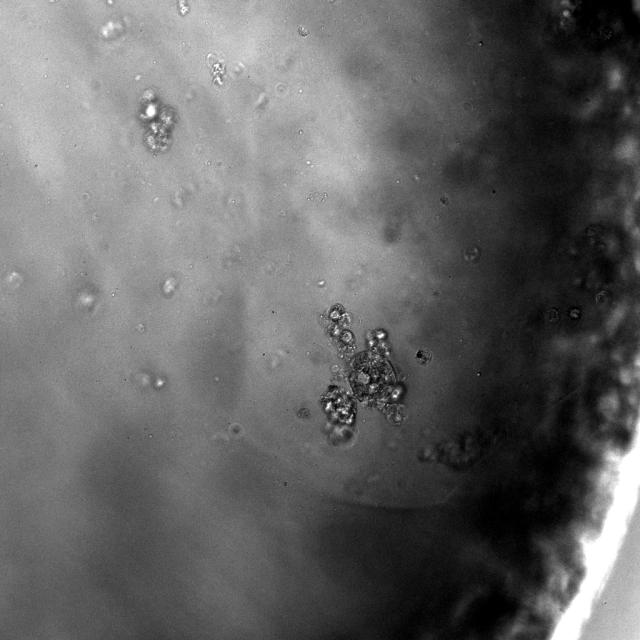organoid: (319, 302, 406, 444), (418, 431, 487, 470), (137, 88, 176, 152), (206, 52, 226, 87), (415, 349, 432, 364), (176, 0, 189, 16), (297, 408, 310, 419), (298, 26, 309, 36)
